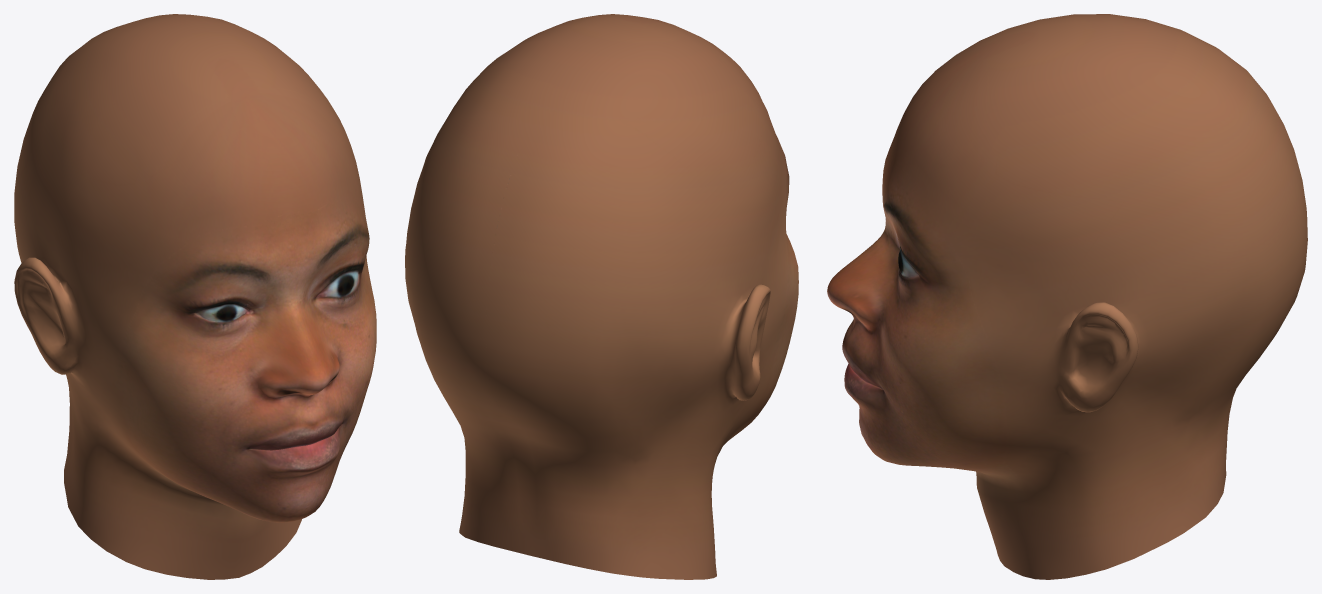
The model's file is v332_obj_ModifierEyeSquintRight.obj.
The picture shows the model from 3 angles, left to right: view 1: azimuth 30°, elevation 25°; view 2: azimuth 150°, elevation 25°; view 3: azimuth 270°, elevation 25°; orthographic projection. The views are drawn at different scales.
Visible parts, largest first — view 1: HeadHires; view 2: HeadHires; view 3: HeadHires.
Part boxes in pixels (bbox=[...]): HeadHires: bbox=[14, 14, 376, 579]; HeadHires: bbox=[405, 14, 798, 579]; HeadHires: bbox=[827, 14, 1307, 579].
Bounding box in the file's own units: 187 × 282 × 233.
